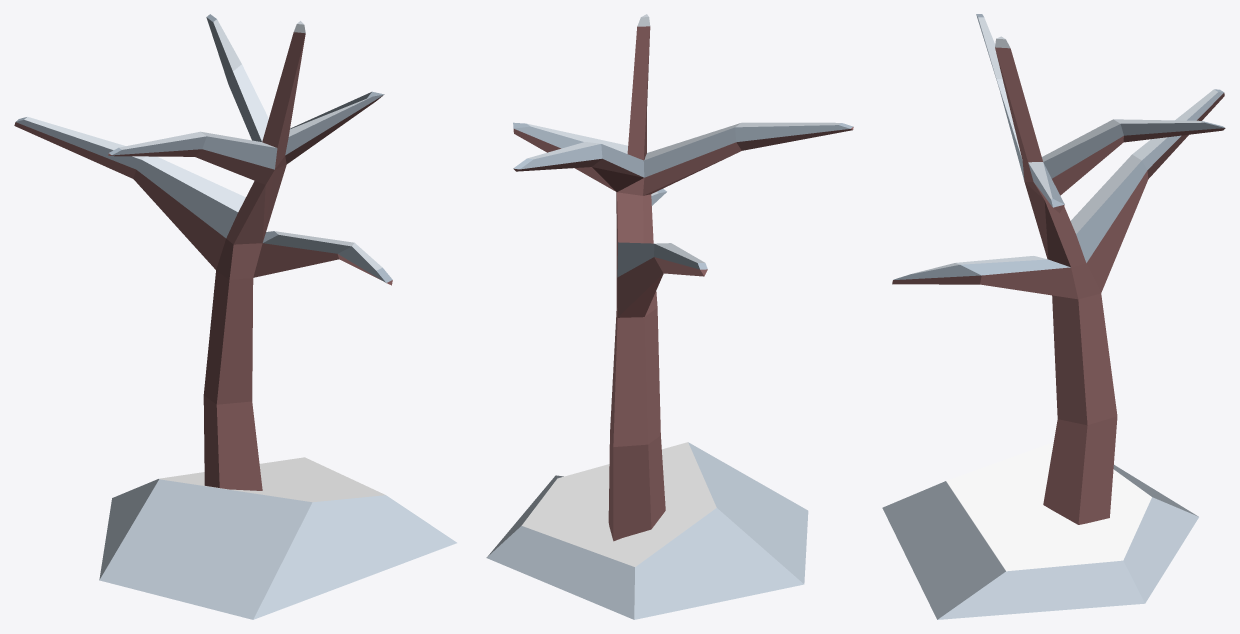
The model's file is TreeWinter7_Alt2.fbx.
3 renders of one model, left to right at view 1: azimuth 30°, elevation 25°; view 2: azimuth 150°, elevation 25°; view 3: azimuth 270°, elevation 25°, orthographic. The views are drawn at different scales.
Parts seen in each view (by area): view 1: TreeWinter7_Alt2; view 2: TreeWinter7_Alt2; view 3: TreeWinter7_Alt2.
Boxes of the visible parts, x1,y1,x2,y2 form: TreeWinter7_Alt2: (14,14,456,619); TreeWinter7_Alt2: (486,14,853,619); TreeWinter7_Alt2: (882,14,1225,619).
Size of the model in its own units: 1.35 by 2.07 by 1.24.
